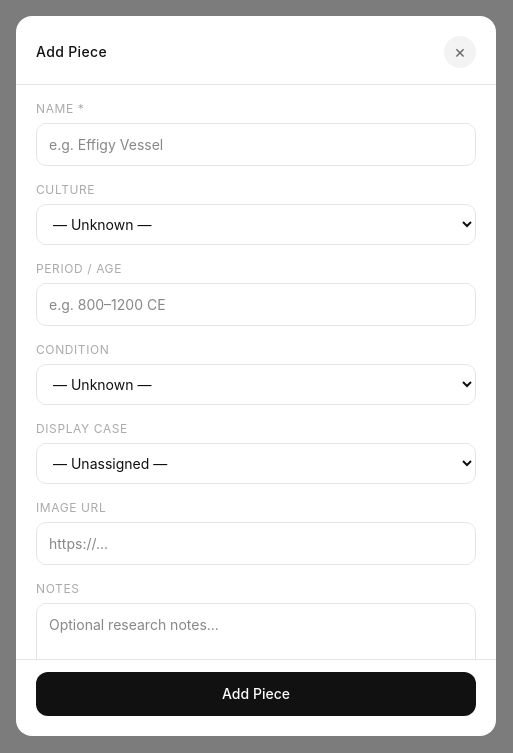
Test: PieceModal › falls back to a generic error message when the thrown error has no message
The width and height of the screenshot is (513, 753).
Type "Broken Piece" into the field with placeholder "e.g. Effigy Vessel".
click(256, 144); type("Broken Piece")  # box 36,123 -> 476,166
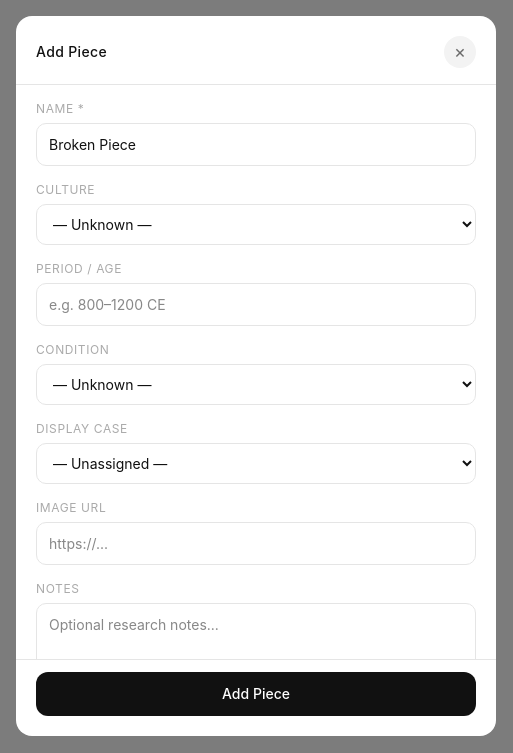
Click the button "Add Piece".
click(256, 694)  # box 36,672 -> 476,716
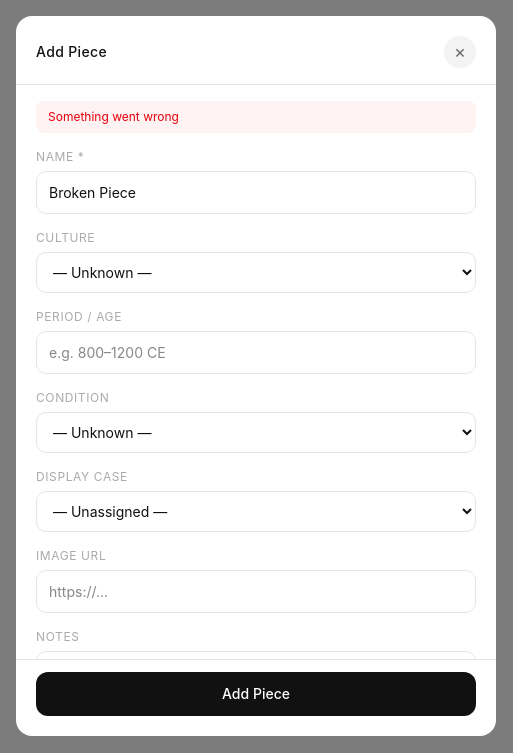
Result: the text "Something went wrong" is shown at 36,101 -> 476,133
